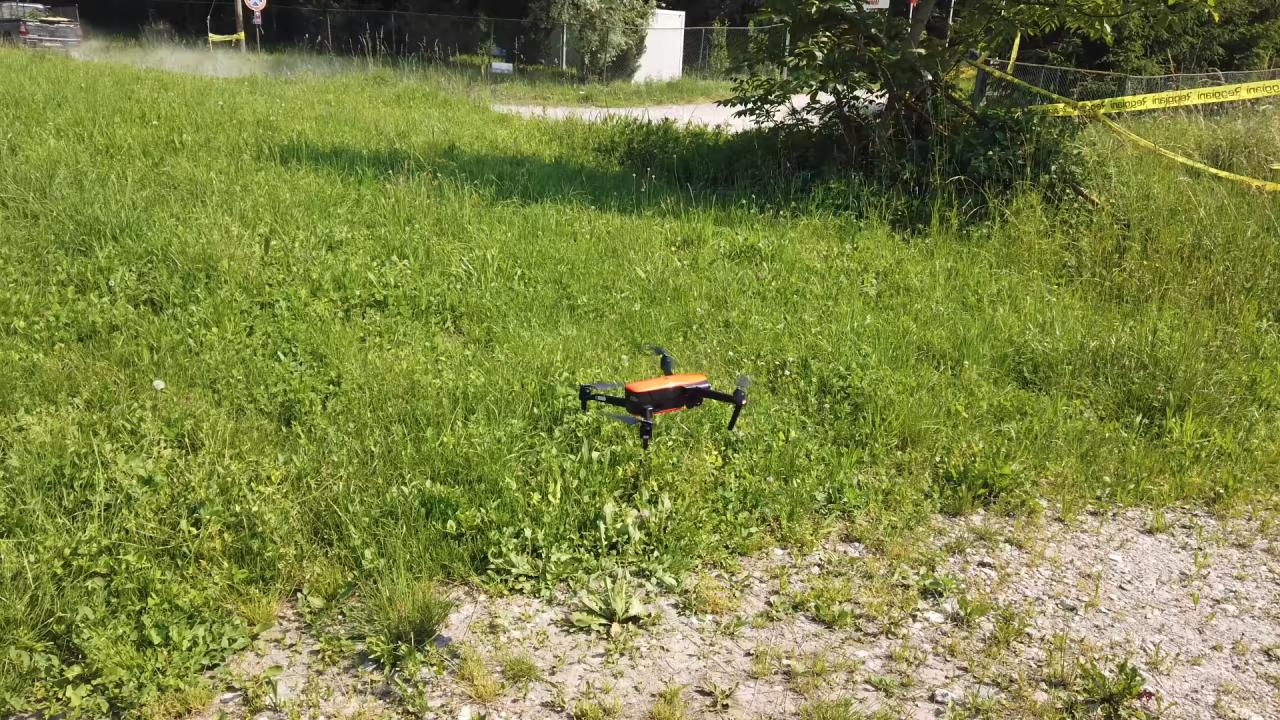Drone: (565, 332, 756, 460)
